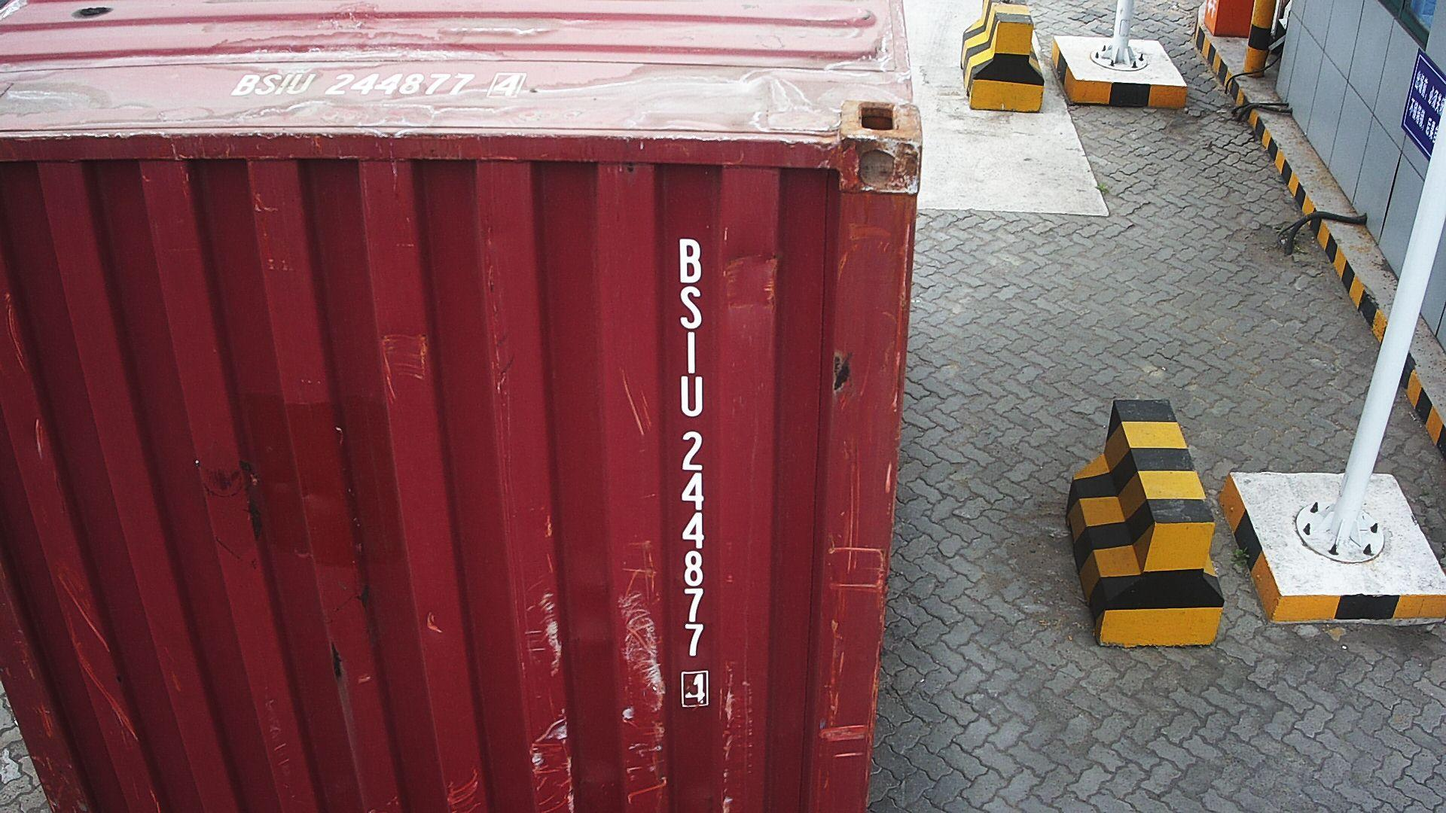container-numbers: (667, 230, 715, 709), (223, 68, 541, 102)
